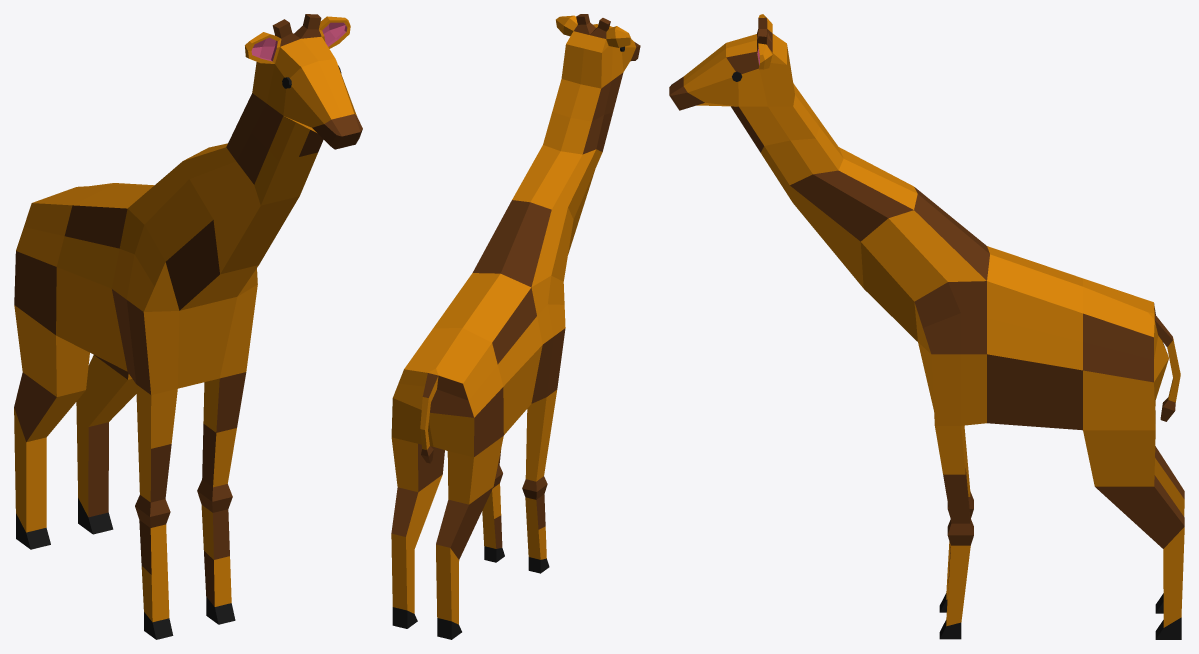
Rendered from Giraffe_01.fbx.
The picture shows the model from 3 angles, left to right: view 1: azimuth 30°, elevation 25°; view 2: azimuth 150°, elevation 25°; view 3: azimuth 270°, elevation 25°; orthographic projection. The views are drawn at different scales.
Parts seen in each view (by area): view 1: Giraffe_01; view 2: Giraffe_01; view 3: Giraffe_01.
Part boxes in pixels (bbox=[...]): Giraffe_01: bbox=[14, 14, 362, 639]; Giraffe_01: bbox=[391, 14, 640, 639]; Giraffe_01: bbox=[669, 14, 1184, 639].
Bounding box in the file's own units: 3.81 × 21.65 × 16.92.
